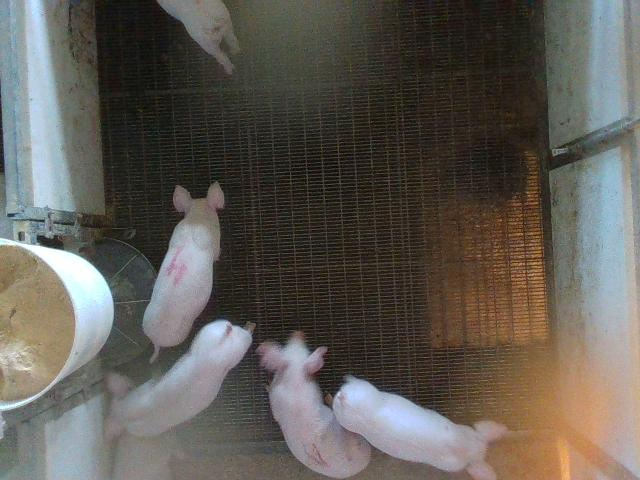pig-1: (256, 331, 371, 478)
pig-4: (142, 181, 225, 362)
